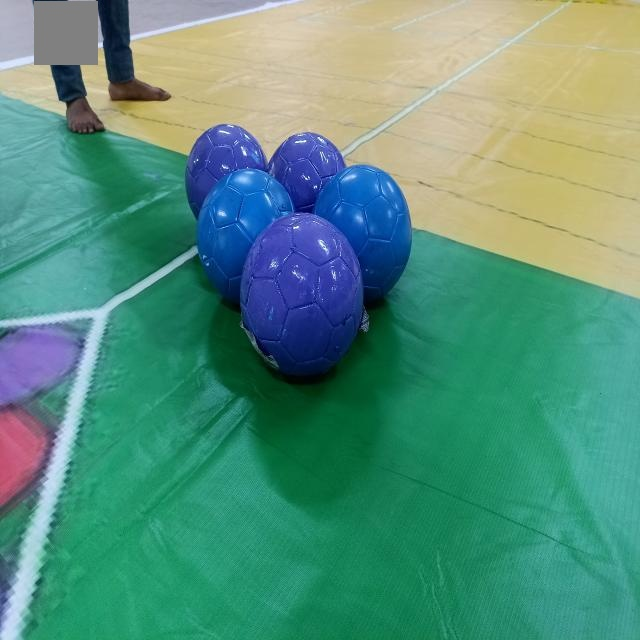blue_ball: (313, 158, 414, 304), (189, 180, 277, 298)
purple_ball: (244, 216, 359, 372), (187, 121, 263, 178), (277, 121, 341, 184)
